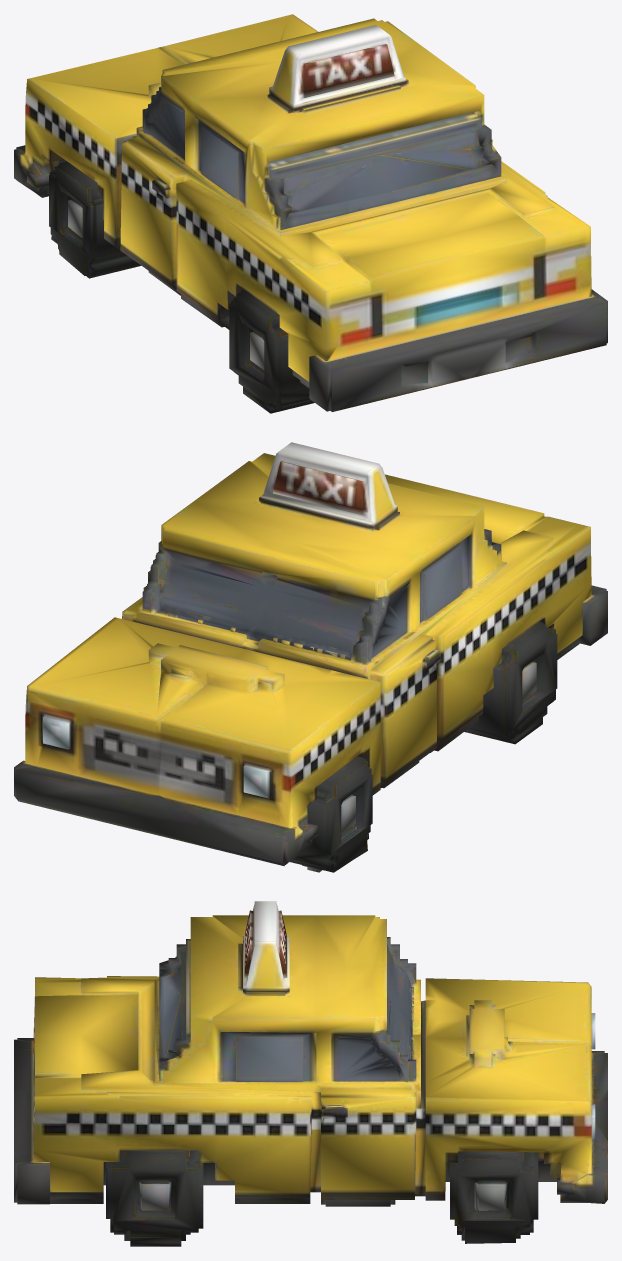
Rendered from yellow-taxi.glb.
3 views of the same model, one above another, from view 1: azimuth 30°, elevation 25°; view 2: azimuth 150°, elevation 25°; view 3: azimuth 270°, elevation 25° (orthographic). The views are drawn at different scales.
Visible parts, largest first — view 1: tripo_node_5968c7ac-0460-4391-8c3f-c74d9ae8c7f1; view 2: tripo_node_5968c7ac-0460-4391-8c3f-c74d9ae8c7f1; view 3: tripo_node_5968c7ac-0460-4391-8c3f-c74d9ae8c7f1.
Part boxes in pixels (x1,y1,x2,y2): tripo_node_5968c7ac-0460-4391-8c3f-c74d9ae8c7f1: [14, 14, 607, 413]; tripo_node_5968c7ac-0460-4391-8c3f-c74d9ae8c7f1: [14, 442, 607, 872]; tripo_node_5968c7ac-0460-4391-8c3f-c74d9ae8c7f1: [14, 901, 607, 1246].
Bounding box in the file's own units: 0.5098 × 0.5059 × 0.998.
Materials: 1 (1 with a texture image).
